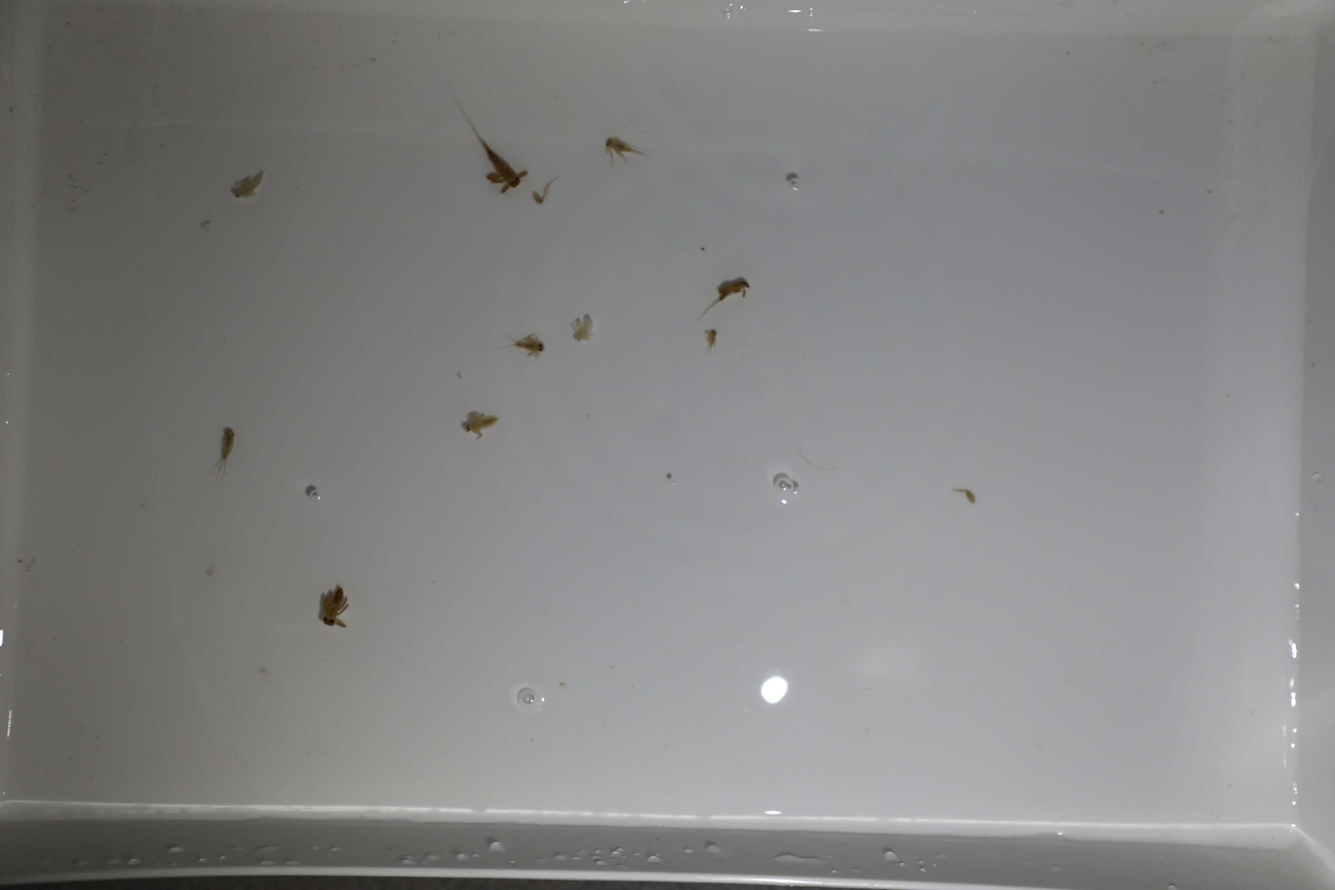Mayfly: (449, 89, 527, 200), (700, 274, 753, 322), (315, 585, 352, 631), (603, 130, 649, 163), (456, 408, 495, 443), (509, 330, 547, 363), (230, 168, 264, 203), (215, 421, 236, 476), (568, 310, 599, 347), (705, 327, 720, 358)
